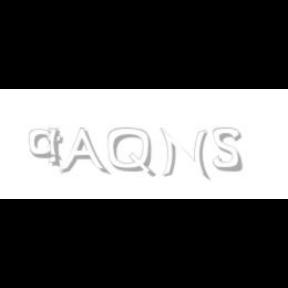A: (59, 128, 107, 176)
N: (160, 128, 208, 180)
Q: (108, 128, 154, 178)
S: (212, 128, 243, 172)
a: (30, 128, 66, 160)
t: (45, 128, 67, 168)
